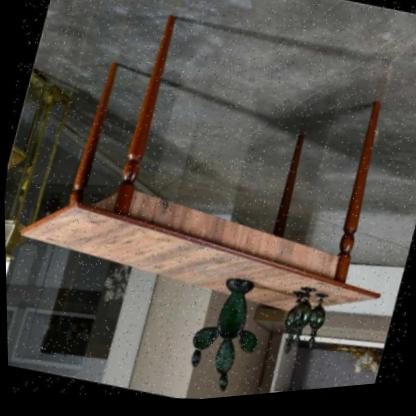Table: (0, 0, 416, 405)
